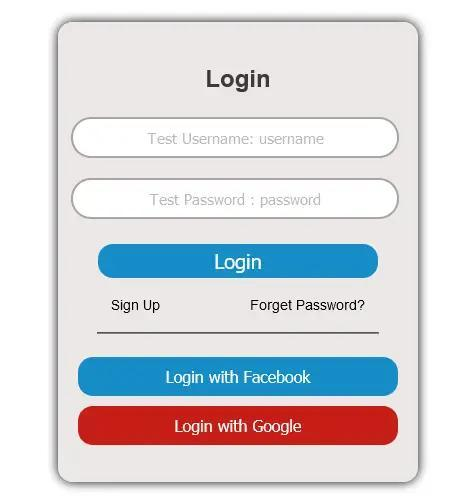button: (78, 406, 399, 448), (77, 356, 399, 397), (99, 244, 379, 279)
input: (72, 178, 400, 220), (71, 118, 400, 159)
label: (248, 299, 367, 316), (108, 299, 166, 318)
